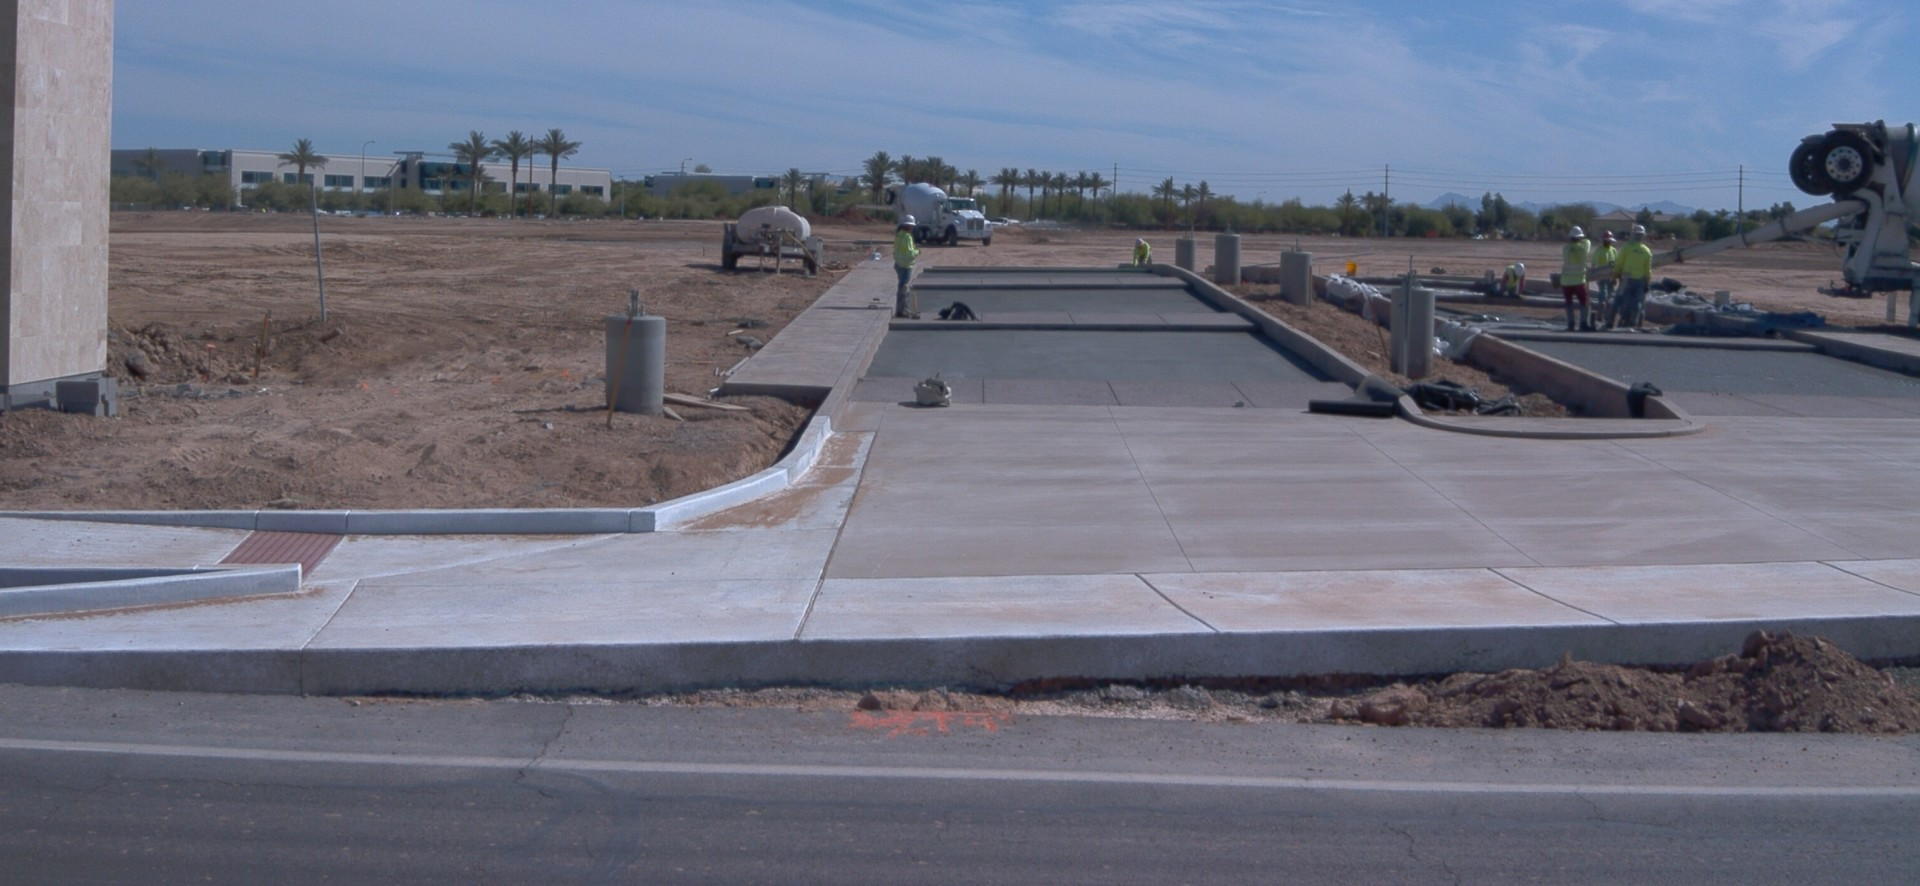TYPE_PEDESTRIAN: (1595, 222, 1655, 336), (1558, 225, 1598, 333), (888, 212, 926, 321), (1589, 228, 1623, 330), (1616, 231, 1647, 330), (1497, 260, 1529, 298), (1131, 236, 1155, 268)
TYPE_VEHICLE: (1548, 123, 1920, 344), (721, 202, 825, 276), (883, 180, 993, 247), (992, 216, 1019, 227)
